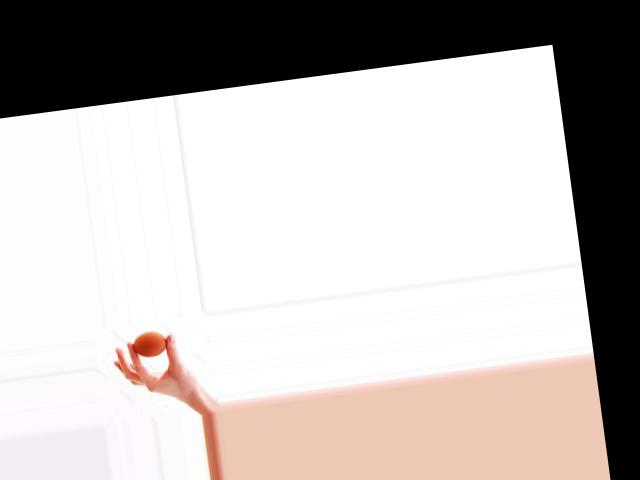egg: (131, 329, 168, 358)
